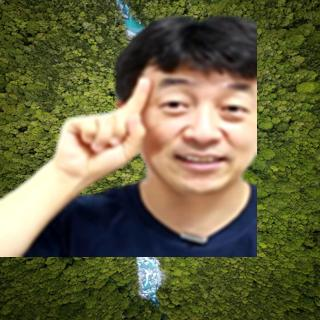IRRITATED: (48, 76, 153, 185)
